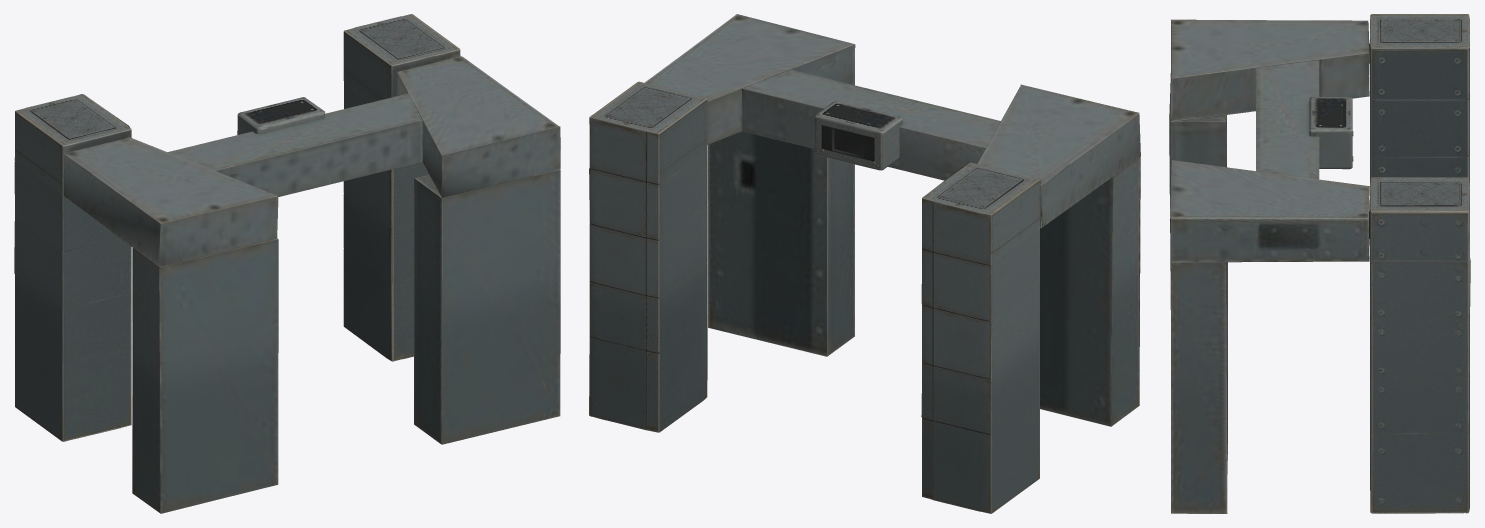
Rendered from office-metal-detector.glb.
3 views of the same model, side by side, from view 1: azimuth 30°, elevation 25°; view 2: azimuth 150°, elevation 25°; view 3: azimuth 270°, elevation 25° (orthographic).
Visible parts, largest first — view 1: metal-detector; view 2: metal-detector; view 3: metal-detector.
Boxes of the visible parts, <box> form: metal-detector: <box>14,14,560,513</box>; metal-detector: <box>589,14,1140,513</box>; metal-detector: <box>1169,14,1470,513</box>.
Bounding box in the file's own units: 3.12 × 2.2 × 1.99.
1 material, 1 textured.
